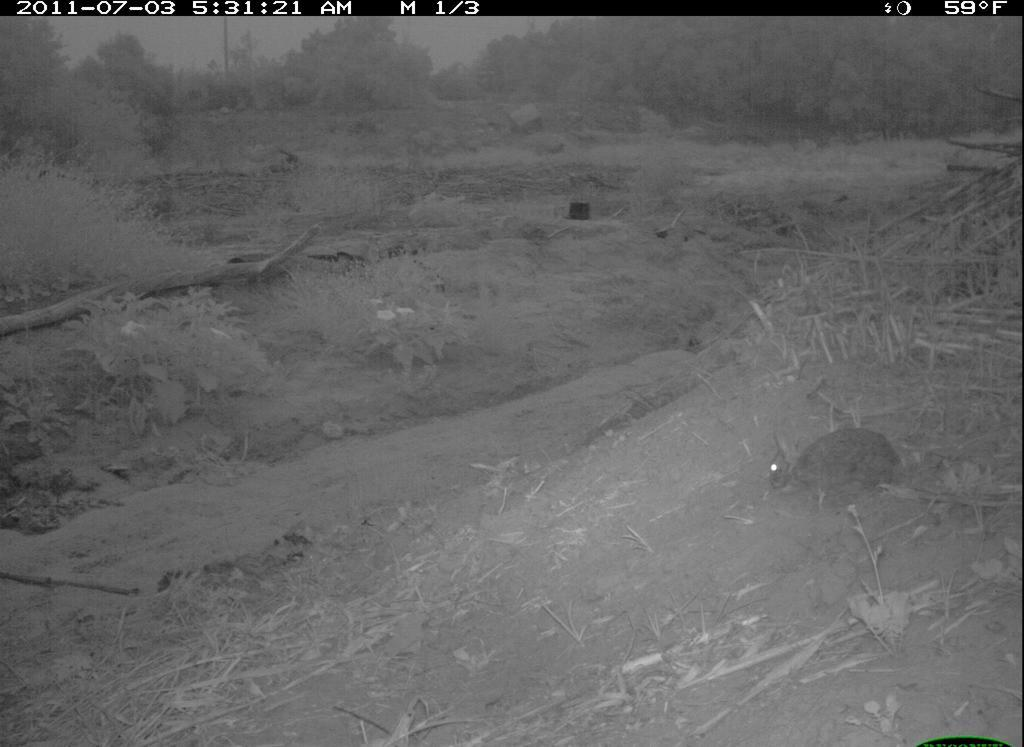rabbit: (755, 417, 916, 517)
